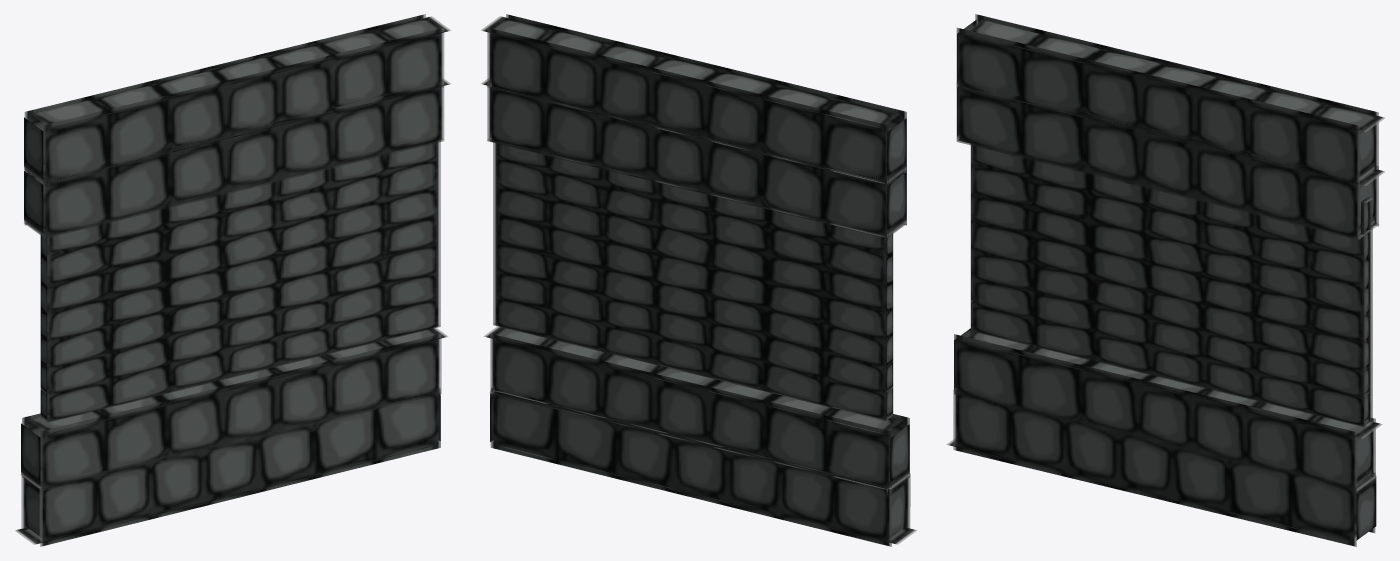
Rendered from roadsegment.gltf.
3 views of the same model, side by side, from view 1: azimuth 30°, elevation 25°; view 2: azimuth 150°, elevation 25°; view 3: azimuth 330°, elevation 25° (orthographic).
Visible parts, largest first — view 1: road; view 2: road; view 3: road.
Boxes of the visible parts, x1=… form: road: x1=15, y1=14, x2=450, y2=546; road: x1=481, y1=14, x2=916, y2=546; road: x1=946, y1=14, x2=1385, y2=546.
Bounding box in the file's own units: 4.09 × 3.94 × 0.3449.
Materials: 3 (3 with a texture image).
